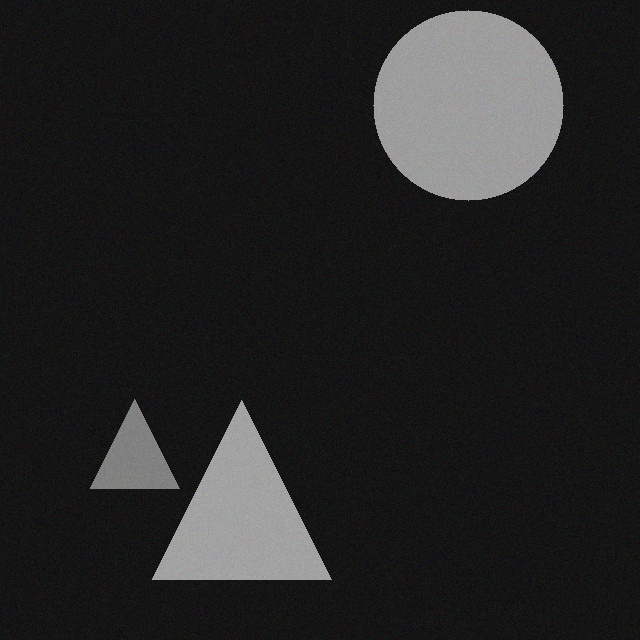circle: (380, 11, 570, 201)
triangle: (159, 401, 338, 580), (97, 400, 186, 489)
